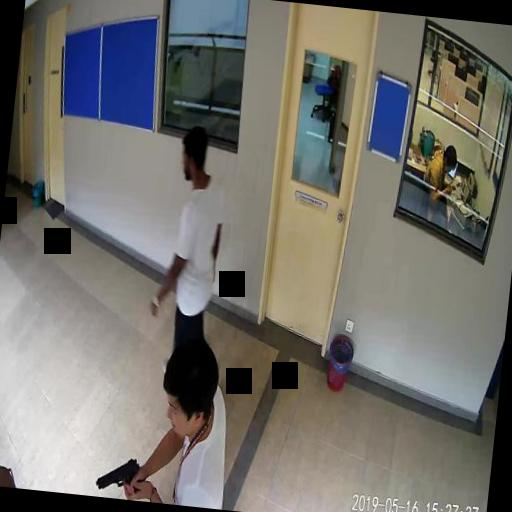Handgun: (94, 452, 142, 494)
